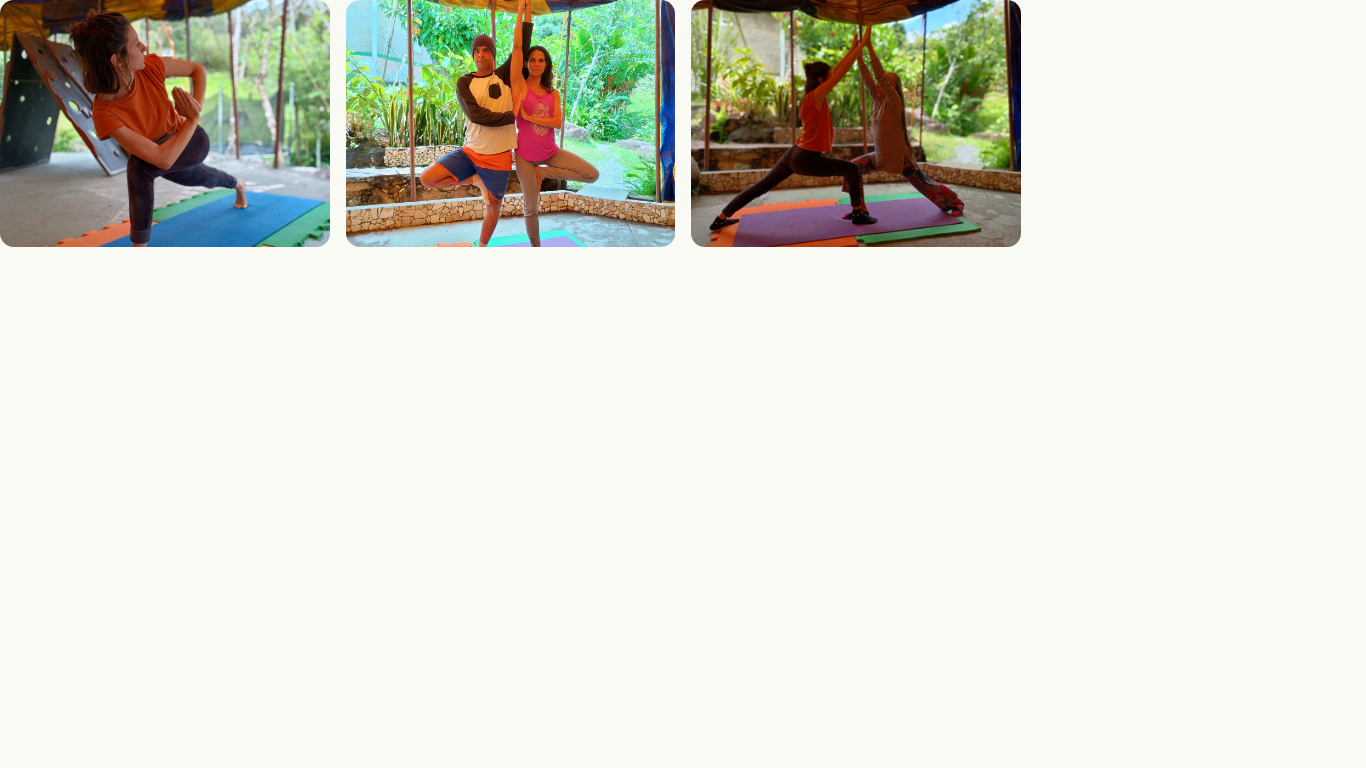
Test case: Galeria › a miniatura abre a foto ampliada com contador
The width and height of the screenshot is (1366, 768).
Click the button named "Ampliar foto 2 de 3: Dupla em postura da árvore, com as mãos": (510,124) top-left (346, 0), bottom-right (675, 247)
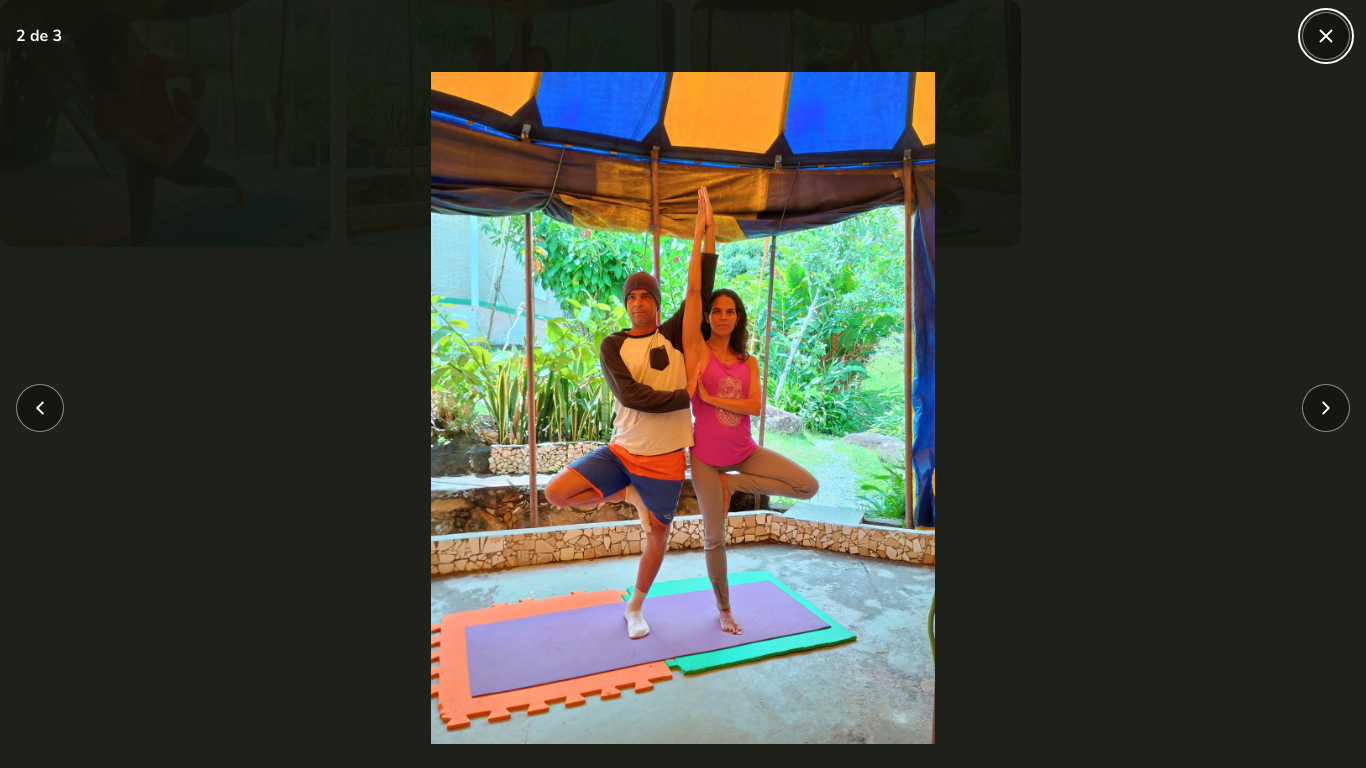
Result: the picture named "Dupla em postura da árvore, com as mãos unidas acima da cabeça" is shown
Result: the dialog named "Fotos de Aulas regulares de Yoga" reads "2 de 3"
